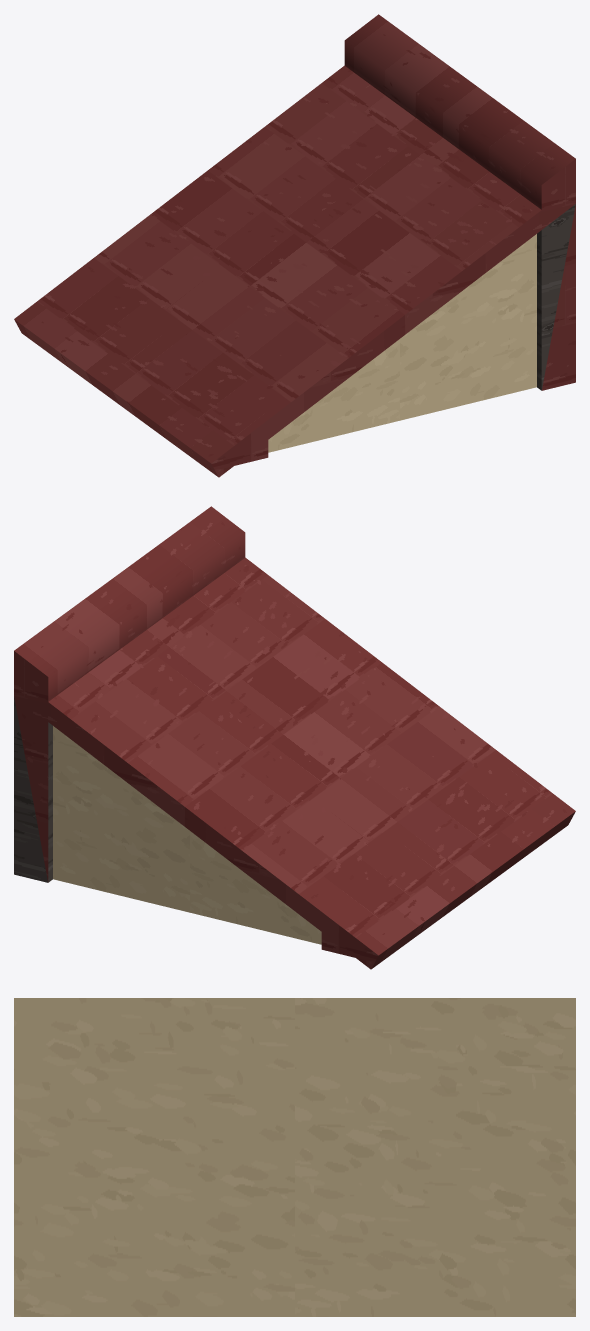
Rendered from roof.gltf.
3 renders of one model, top to bottom at view 1: azimuth 30°, elevation 25°; view 2: azimuth 150°, elevation 25°; view 3: azimuth 270°, elevation 25°, orthographic. The views are drawn at different scales.
Parts seen in each view (by area): view 1: roof; view 2: roof; view 3: roof.
Part boxes in pixels (x1,y1,x2,y2): roof: (14, 14, 575, 477); roof: (14, 506, 575, 969); roof: (14, 998, 575, 1316).
Size of the model in its own units: 1.07 by 0.6483 by 1.
3 materials, 3 textured.
